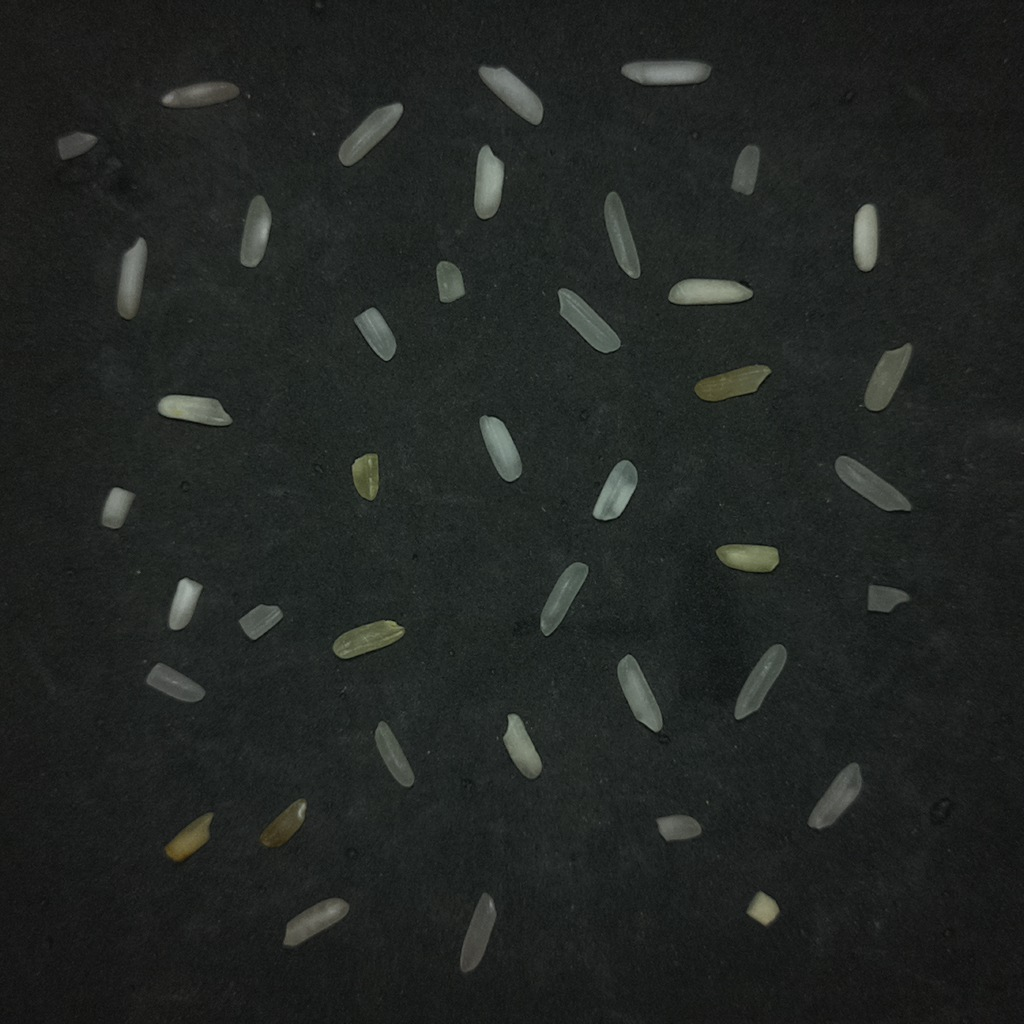broken: (354, 307, 397, 361), (146, 663, 204, 702), (716, 544, 778, 572), (239, 604, 282, 639), (731, 144, 759, 195), (101, 486, 134, 528), (436, 261, 465, 303), (656, 814, 701, 841), (867, 584, 909, 612), (57, 131, 97, 160)
chalky: (479, 66, 542, 125), (479, 416, 521, 481), (592, 460, 637, 520), (503, 713, 541, 779), (117, 237, 147, 319), (157, 394, 232, 426), (621, 59, 711, 85), (474, 145, 504, 219), (668, 278, 751, 304), (168, 577, 202, 630), (853, 203, 878, 271), (746, 891, 779, 926)
damaged: (164, 812, 214, 863), (259, 798, 306, 847), (351, 453, 380, 501)
discolored: (864, 343, 912, 411), (694, 364, 771, 402), (332, 620, 404, 659)
whole: (834, 455, 911, 511), (338, 102, 404, 166), (559, 288, 620, 352), (734, 644, 786, 719), (540, 562, 589, 636), (807, 763, 861, 829), (617, 655, 662, 732), (283, 898, 349, 947), (604, 191, 640, 278), (460, 892, 495, 972), (375, 721, 414, 787), (240, 195, 271, 267), (161, 82, 239, 108)
